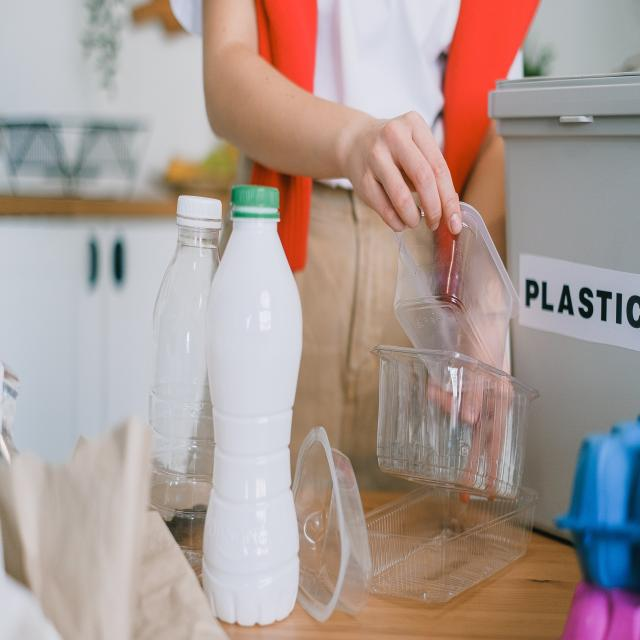plastic: (196, 262, 298, 582), (401, 350, 504, 566)
